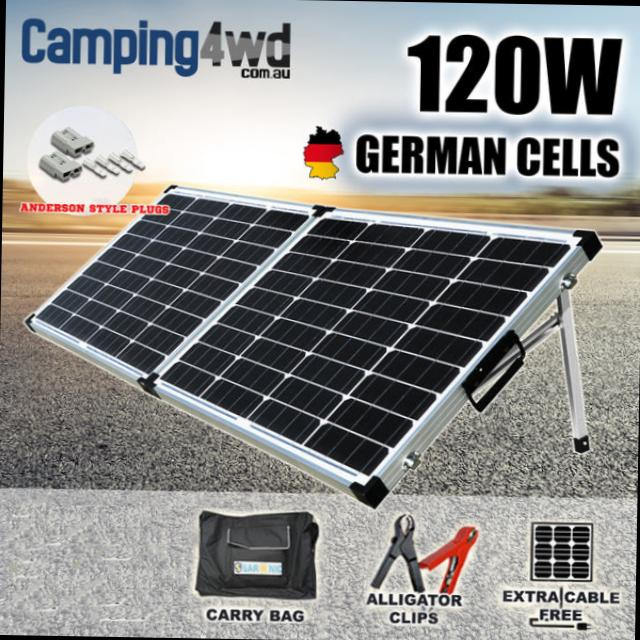no faulty: (32, 191, 576, 493)
